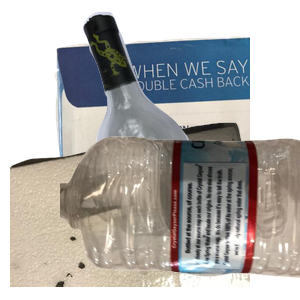glass: (81, 10, 300, 190)
paper: (52, 34, 292, 214)
plastic: (60, 134, 300, 300)
trash: (10, 120, 250, 300)
